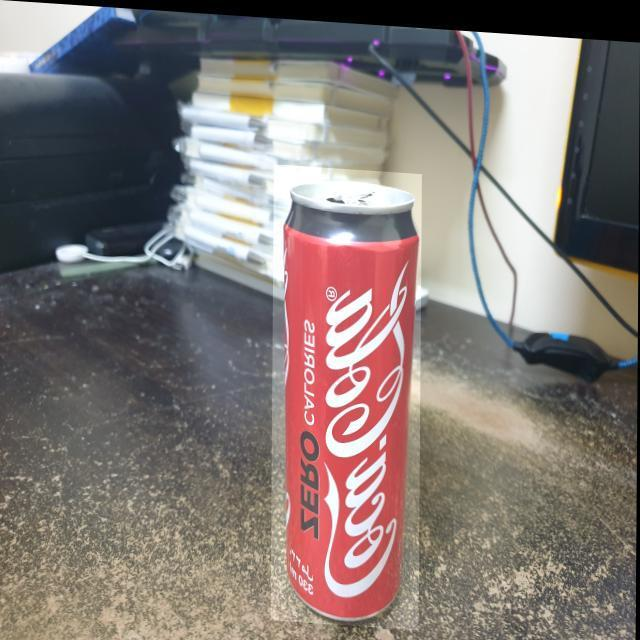trash: (273, 172, 413, 620)
